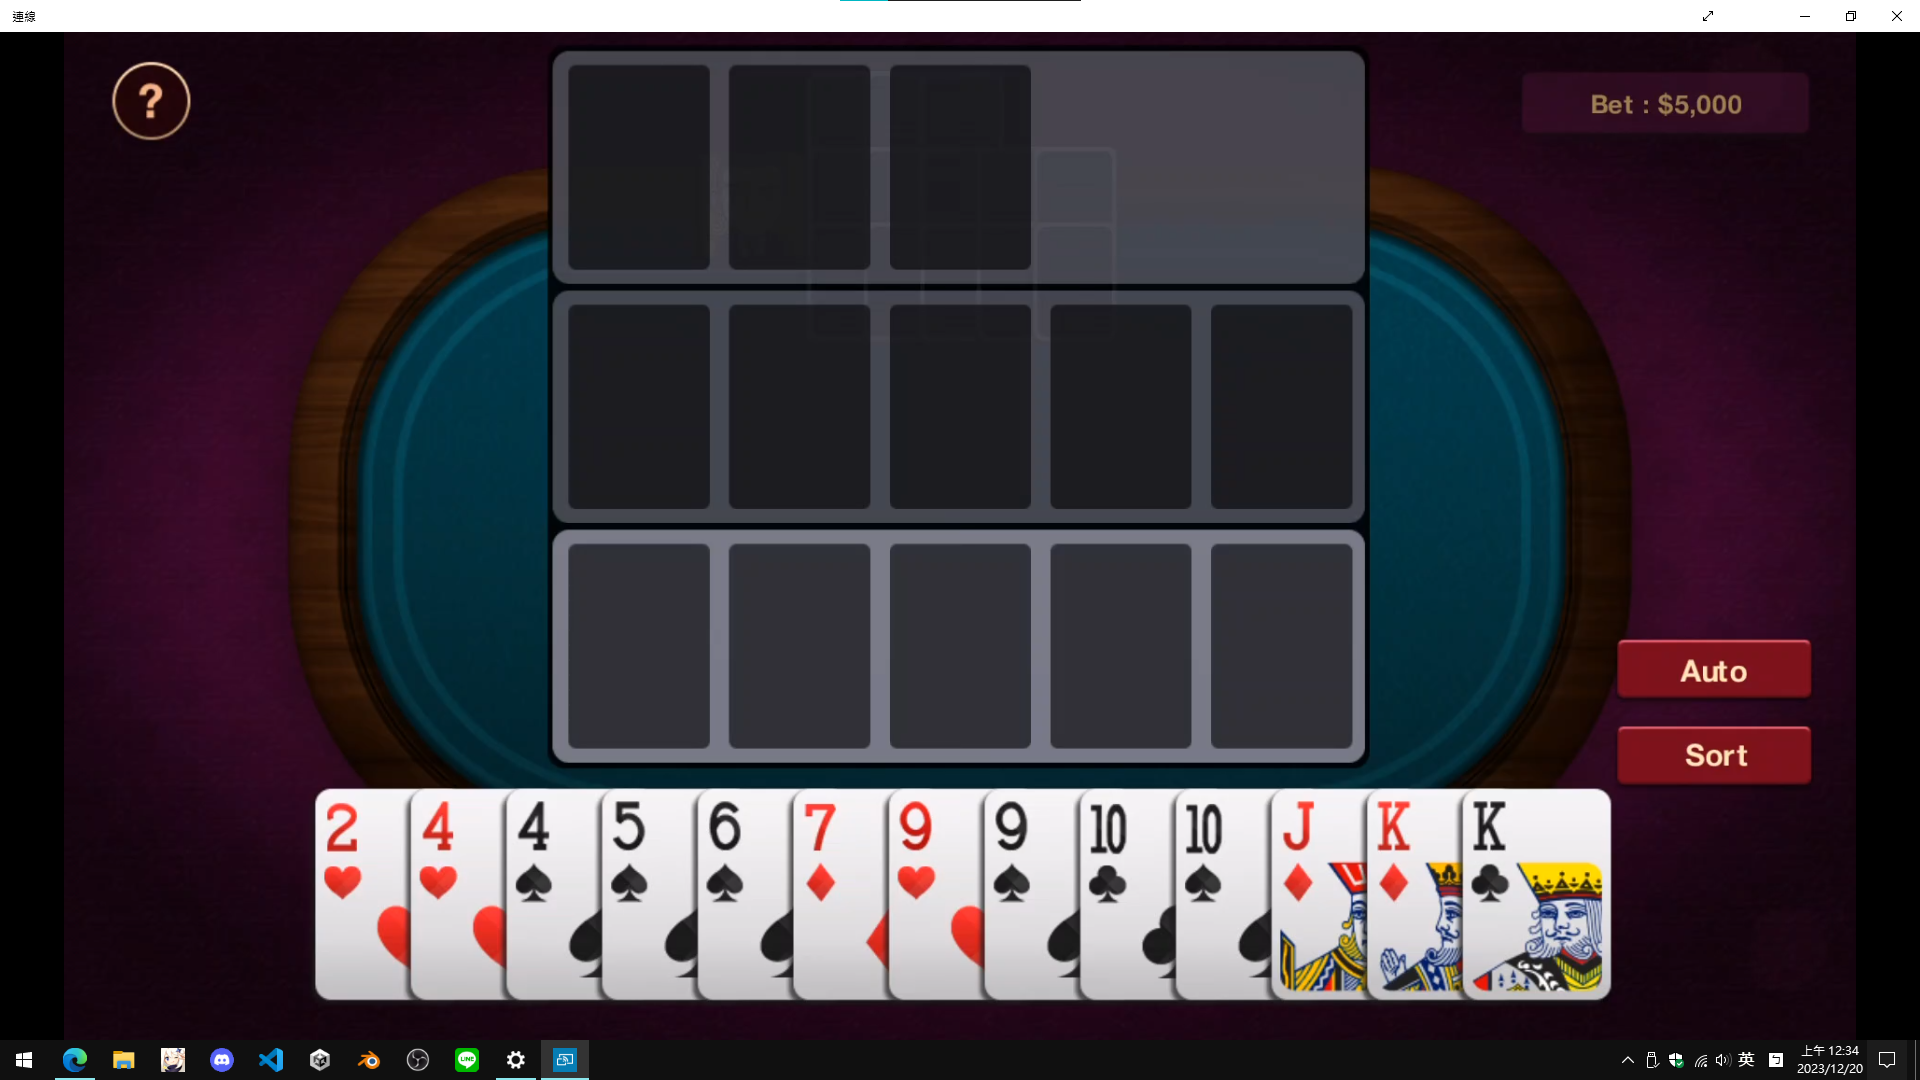10C: (1086, 800, 1131, 911)
10S: (1181, 798, 1233, 911)
2H: (322, 799, 365, 904)
4H: (418, 796, 460, 903)
4S: (513, 797, 558, 908)
5S: (607, 797, 654, 908)
6S: (704, 797, 748, 908)
7D: (801, 799, 842, 907)
9H: (896, 797, 938, 903)
9S: (992, 796, 1038, 908)
JD: (1281, 797, 1322, 908)
KC: (1467, 795, 1513, 907)
KD: (1372, 796, 1413, 905)
